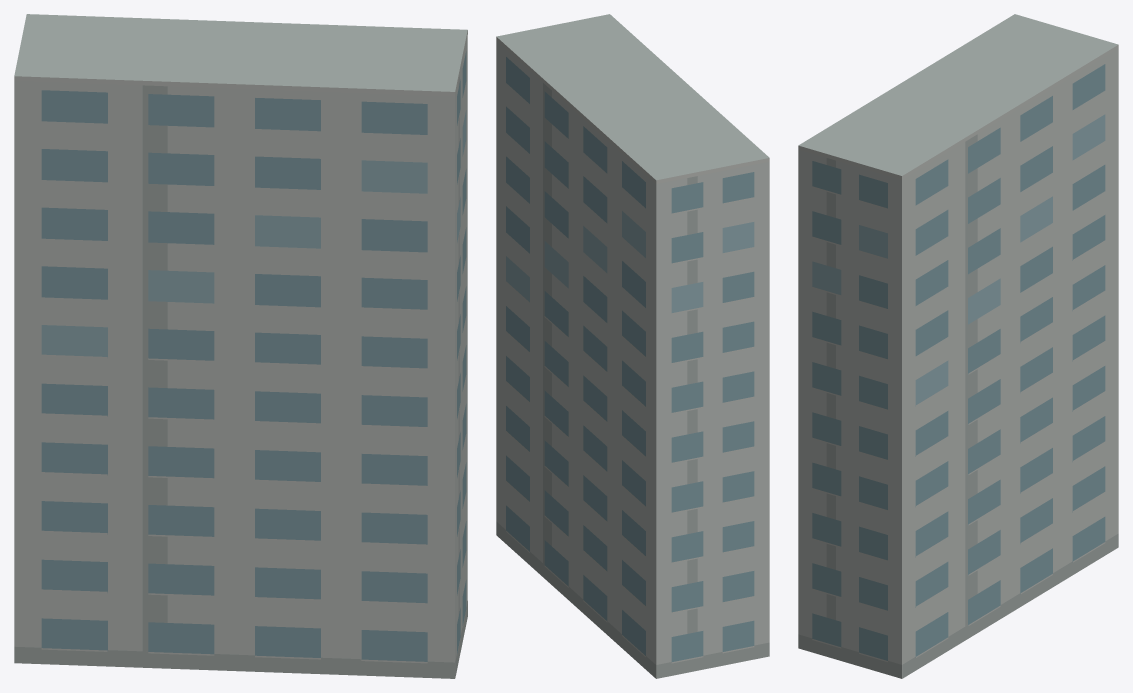
Rendered from residential-4ef86dd1-15ee-4da0-b239-9a4c6df7526c.glb.
The picture shows the model from 3 angles, left to right: view 1: azimuth 30°, elevation 25°; view 2: azimuth 150°, elevation 25°; view 3: azimuth 270°, elevation 25°; orthographic projection. The views are drawn at different scales.
Parts seen in each view (by area): view 1: residential-4ef86dd1-15ee-4da0-b239-9a4c6df7526c.tmp; view 2: residential-4ef86dd1-15ee-4da0-b239-9a4c6df7526c.tmp; view 3: residential-4ef86dd1-15ee-4da0-b239-9a4c6df7526c.tmp.
Boxes of the visible parts, left/top/right/bottom form: residential-4ef86dd1-15ee-4da0-b239-9a4c6df7526c.tmp: left=14, top=14, right=467, bottom=678; residential-4ef86dd1-15ee-4da0-b239-9a4c6df7526c.tmp: left=496, top=14, right=769, bottom=678; residential-4ef86dd1-15ee-4da0-b239-9a4c6df7526c.tmp: left=798, top=14, right=1118, bottom=678.
Bounding box in the file's own units: 21.44 × 31 × 17.91.
